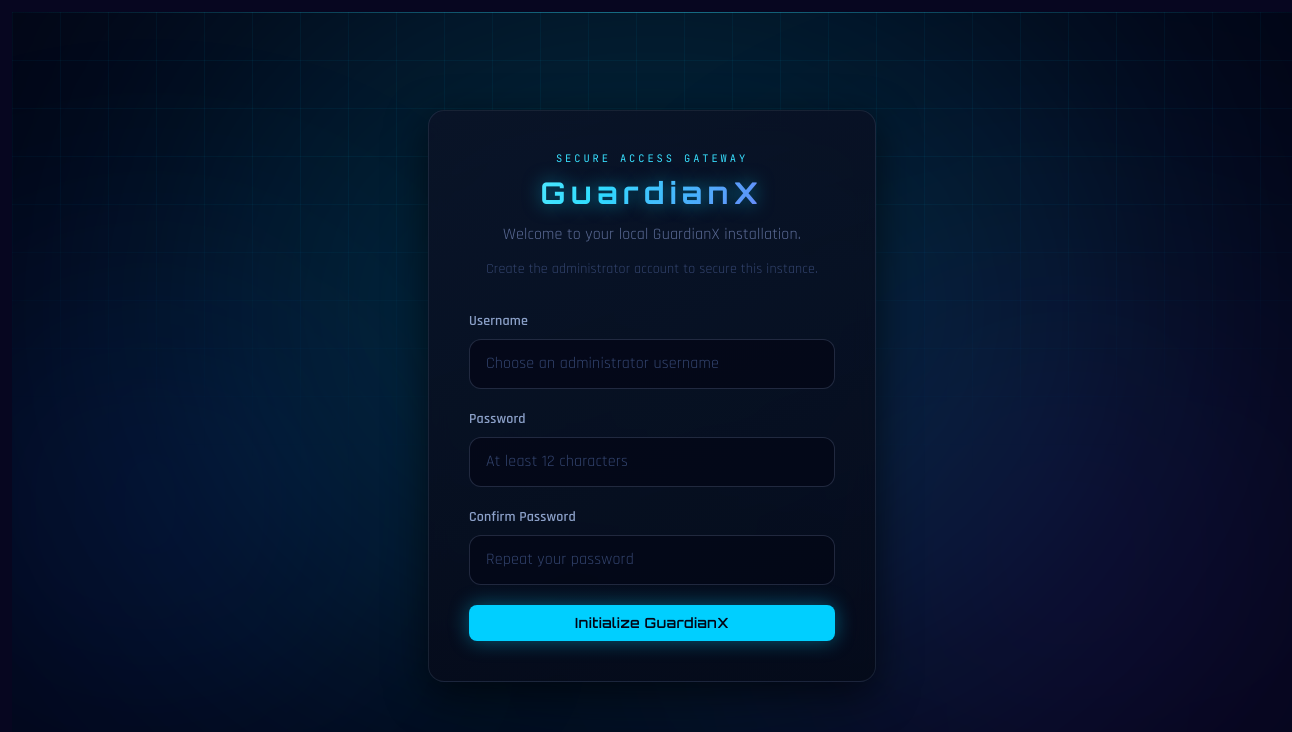
Test: Fresh-install Setup -> Login transition › marks the installation initialized after a successful setup
Expected: the button "Initialize GuardianX" is shown, [469, 605, 835, 641]
Type "release-admin" into the field labelled "Username" at (652, 364), box [469, 339, 835, 389]
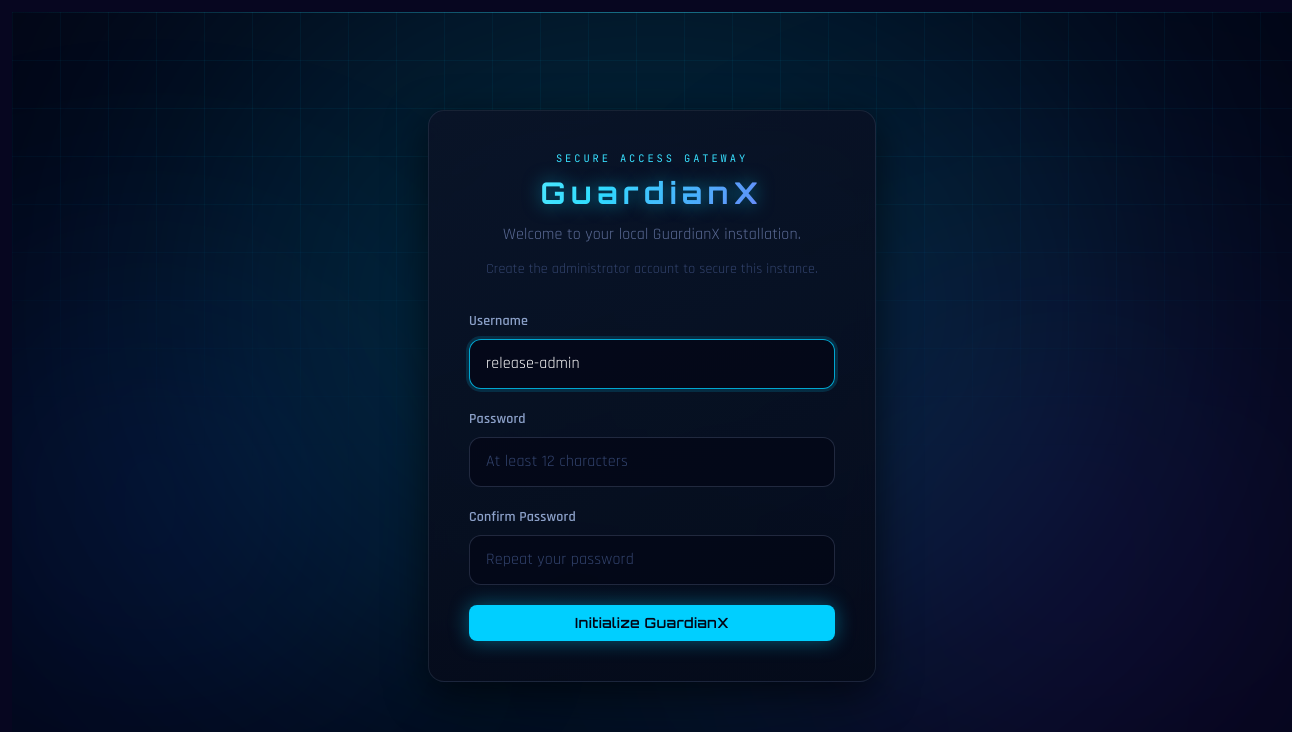
Type "Sup3rStrongPassword1!" into the password field labelled "Password" at (652, 462), box [469, 437, 835, 487]
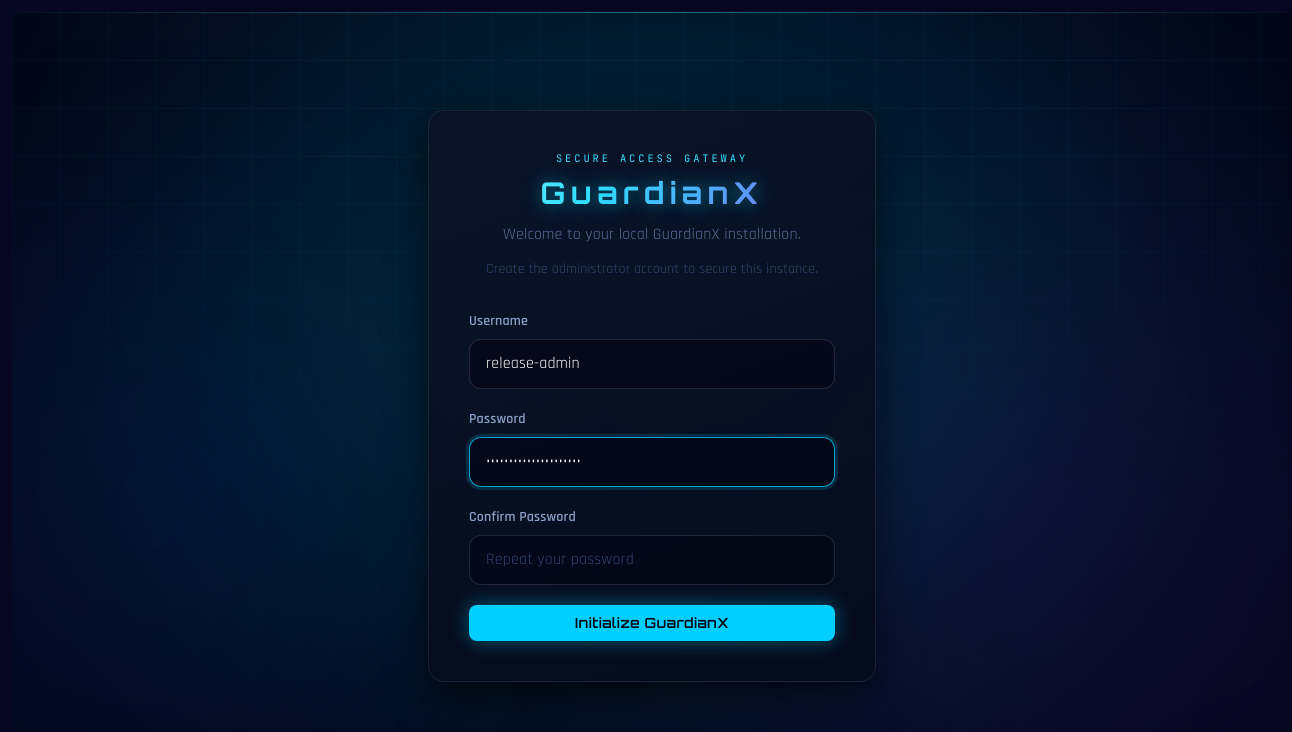
Type "Sup3rStrongPassword1!" into the password field labelled "Confirm Password" at (652, 560), box [469, 535, 835, 585]
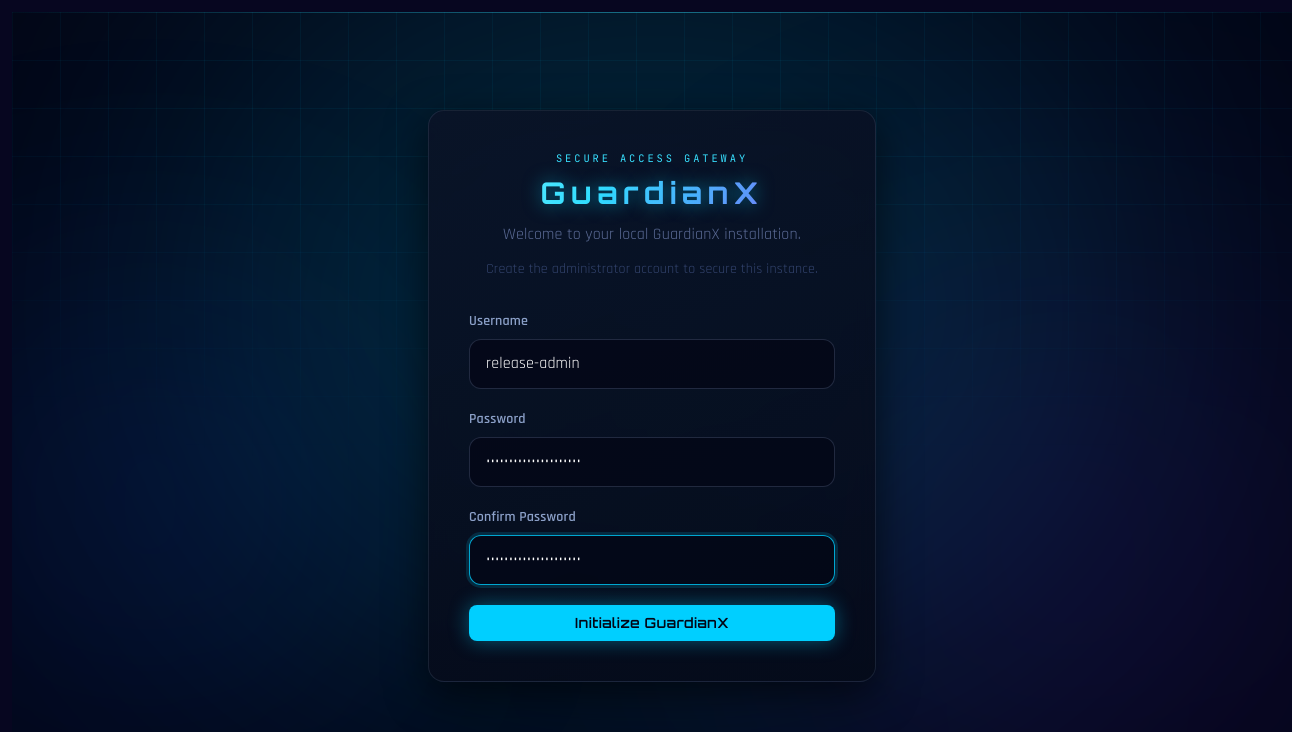
Click the button "Initialize GuardianX" at (652, 623), box [469, 605, 835, 641]
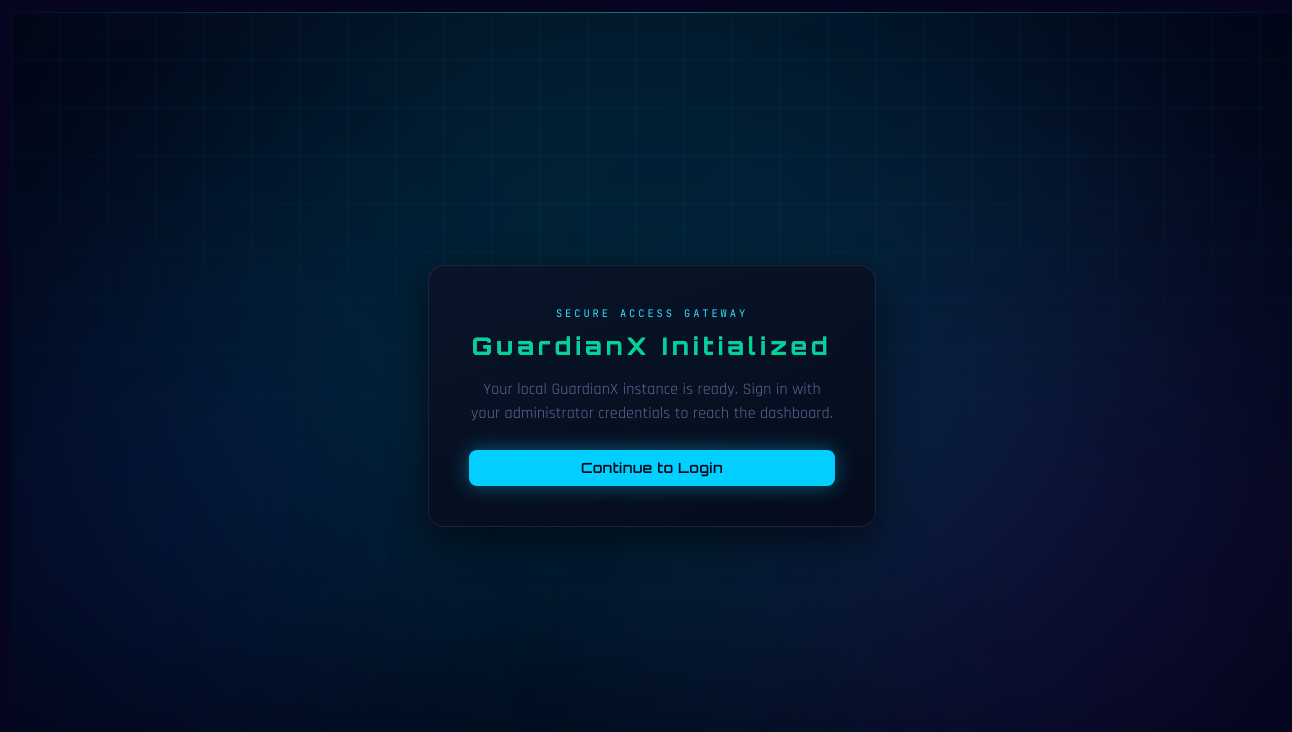
Now the heading "GuardianX Initialized" is shown, box [469, 330, 835, 362]
